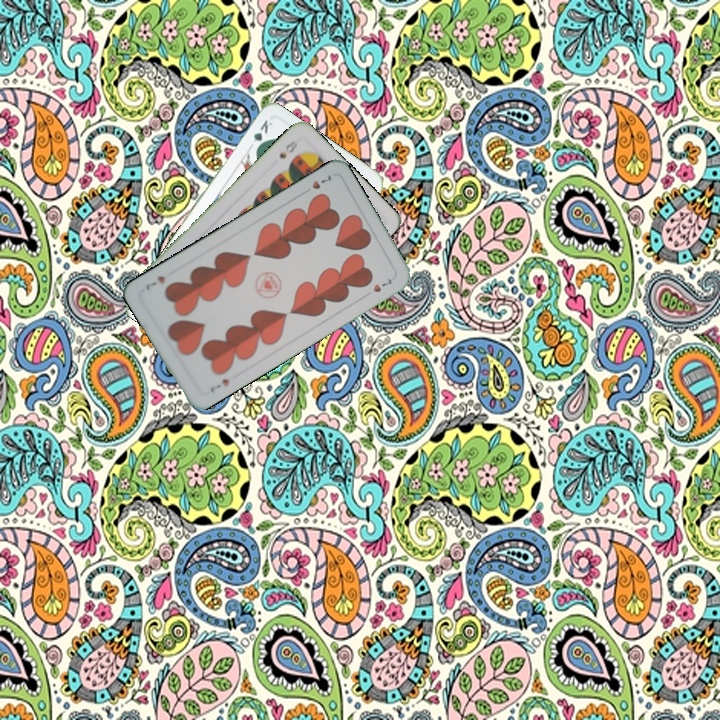GK: (249, 115, 275, 154)
H7: (298, 171, 334, 197), (206, 374, 232, 395)
S8: (275, 136, 300, 161)
